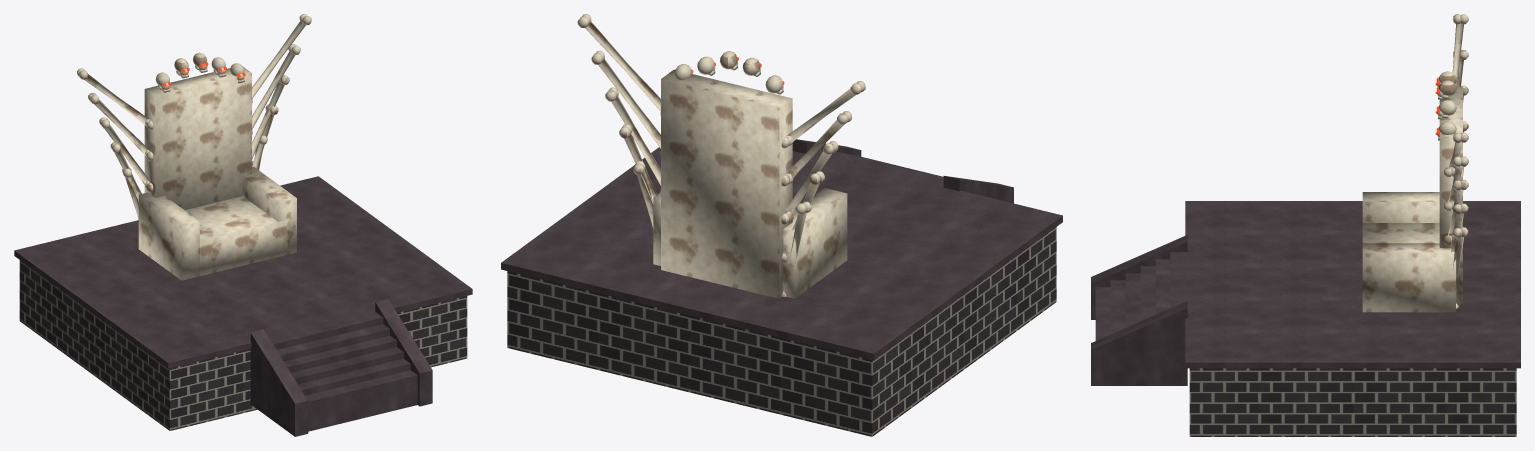
File: bone_throne.glb
3 views of the same model, side by side, from view 1: azimuth 30°, elevation 25°; view 2: azimuth 150°, elevation 25°; view 3: azimuth 270°, elevation 25° (orthographic). The views are drawn at different scales.
Visible parts, largest first — view 1: DaisPodiumCap, Throne, DaisPodiumBase, DaisStairsfront, DaisCheeksfront; view 2: DaisPodiumCap, DaisPodiumBase, Throne, DaisCheeksfront, DaisStairsfront; view 3: DaisPodiumCap, DaisPodiumBase, Throne, DaisCheeksfront, DaisStairsfront.
Part boxes in pixels (box(x1,y1,x2,y2)): DaisPodiumCap: box(14, 176, 472, 368); Throne: box(77, 14, 311, 280); DaisPodiumBase: box(19, 260, 467, 430); DaisStairsfront: box(270, 312, 417, 431); DaisCheeksfront: box(250, 299, 432, 436); DaisPodiumCap: box(501, 147, 1062, 360); DaisPodiumBase: box(507, 227, 1056, 436); Throne: box(577, 14, 865, 298); DaisCheeksfront: box(792, 139, 1013, 203); DaisStairsfront: box(814, 148, 943, 186); DaisPodiumCap: box(1185, 201, 1520, 368); DaisPodiumBase: box(1189, 368, 1516, 436); Throne: box(1362, 14, 1468, 312); DaisCheeksfront: box(1091, 235, 1187, 385); DaisStairsfront: box(1095, 252, 1186, 340).
Size of what is drawn, in the model's own units: 8.18 by 6.71 by 9.2.
4 materials, 3 textured.
